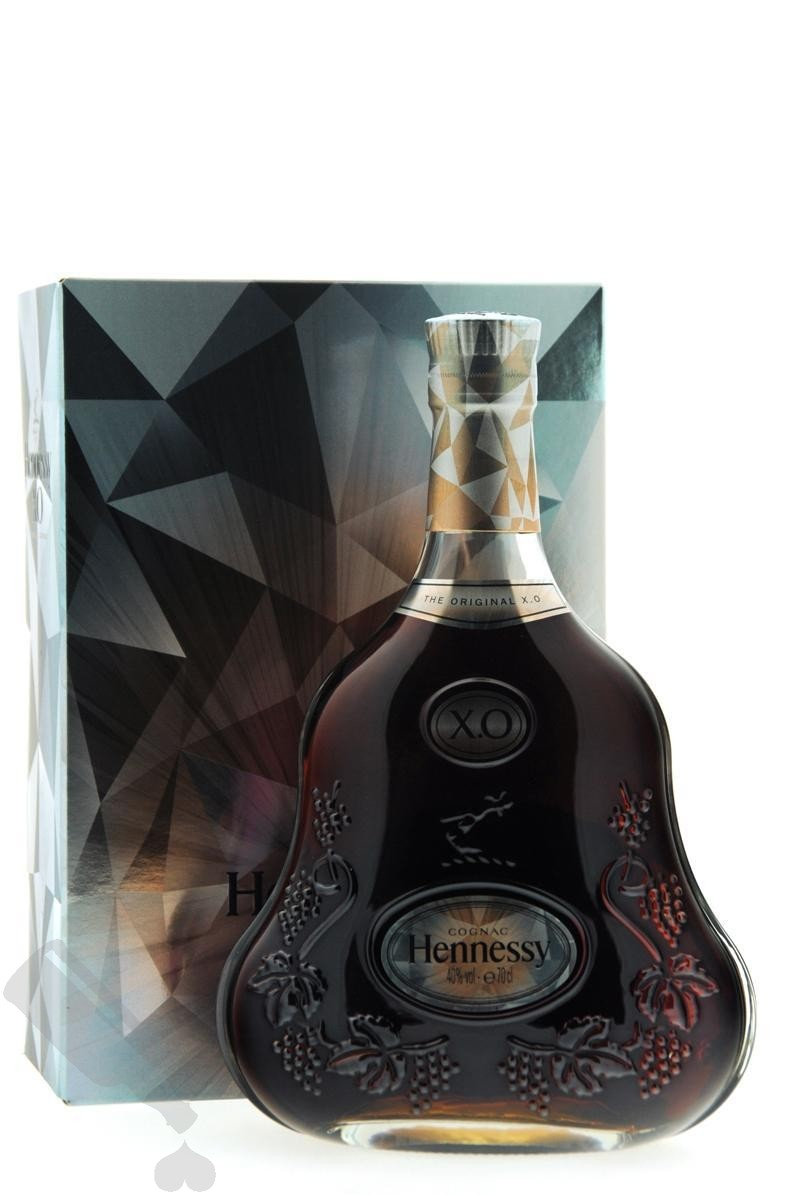Hennessy: (202, 290, 770, 1165)
